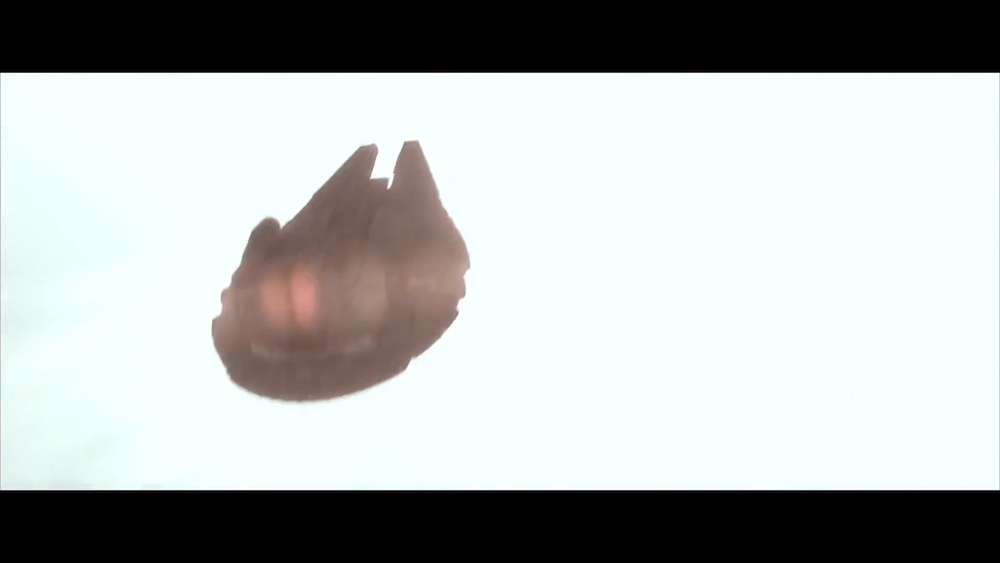Millennium Falcon: (212, 141, 472, 405)
